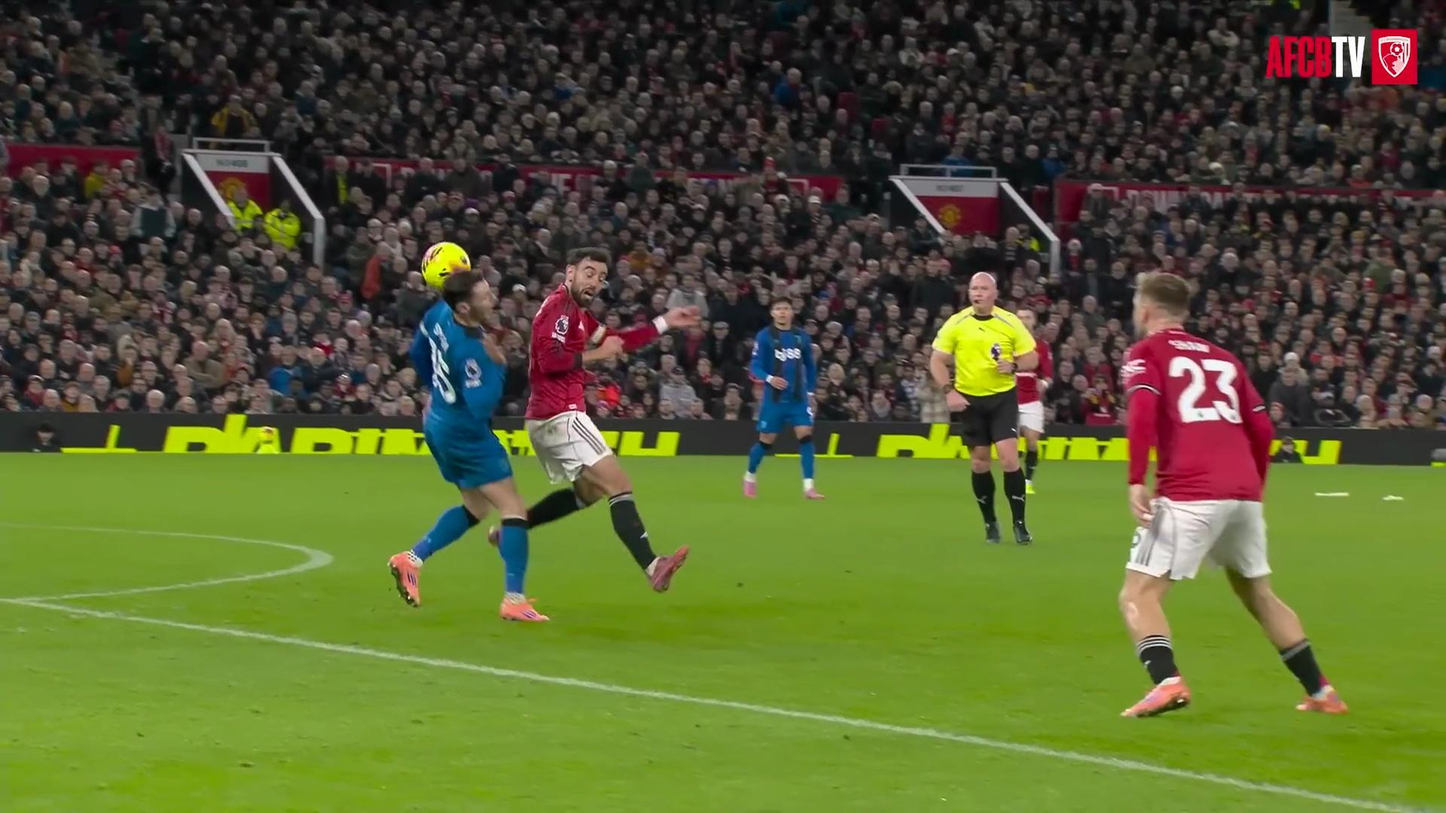football: (421, 242, 471, 288)
player: (1120, 273, 1347, 717), (525, 248, 698, 591), (389, 270, 547, 621), (743, 299, 823, 499), (1016, 337, 1053, 492)
referee: (930, 273, 1038, 544)
